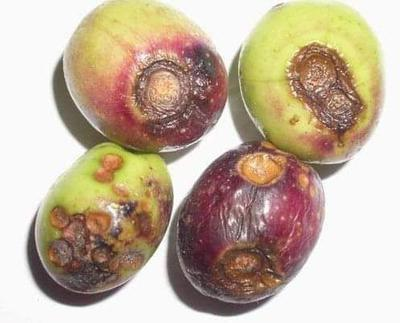Anthracnose: (44, 152, 175, 296), (208, 138, 298, 298), (106, 43, 230, 148), (282, 40, 374, 150)
